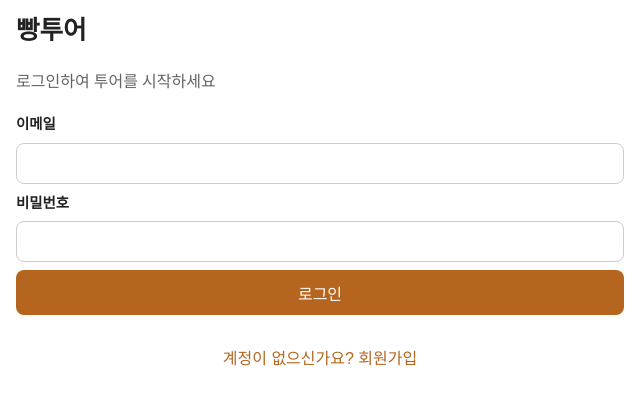
it: Login page (REQ-F5-001) › shows a Korean error message when sign-in fails
The image size is (641, 413).
In the field labelled "이메일": coordinates (320, 163) left=16, top=143, right=624, bottom=184, type "a@b.com"
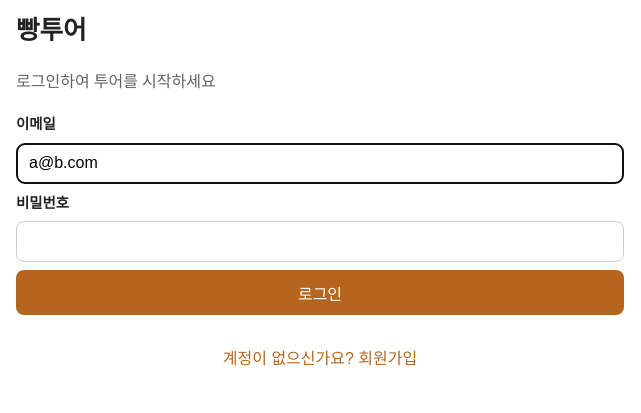
In the password field labelled "비밀번호": coordinates (320, 242) left=16, top=221, right=624, bottom=262, type "wrong"
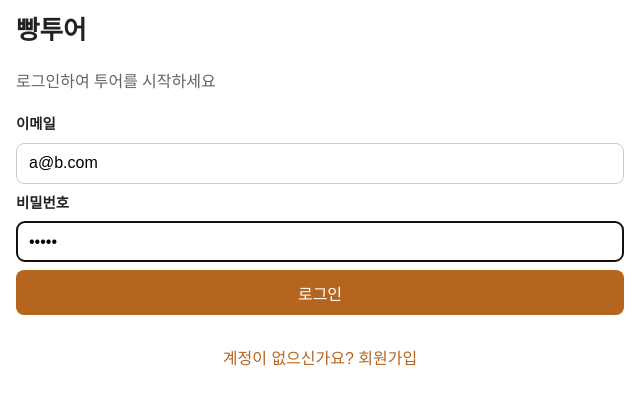
Click the button "로그인": coordinates (320, 293) left=16, top=270, right=624, bottom=315
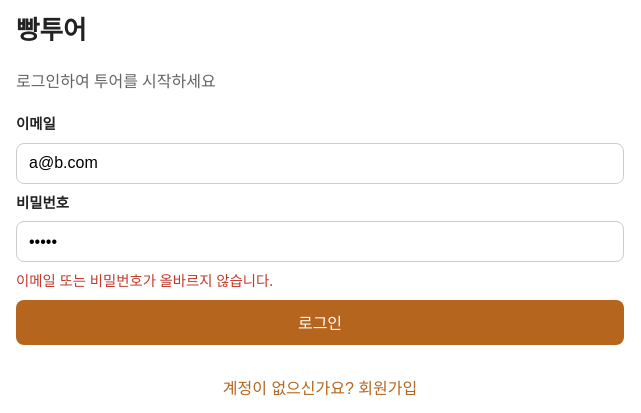
Result: the text "이메일 또는 비밀번호가 올바르지 않습니다." is shown at left=16, top=271, right=273, bottom=290
